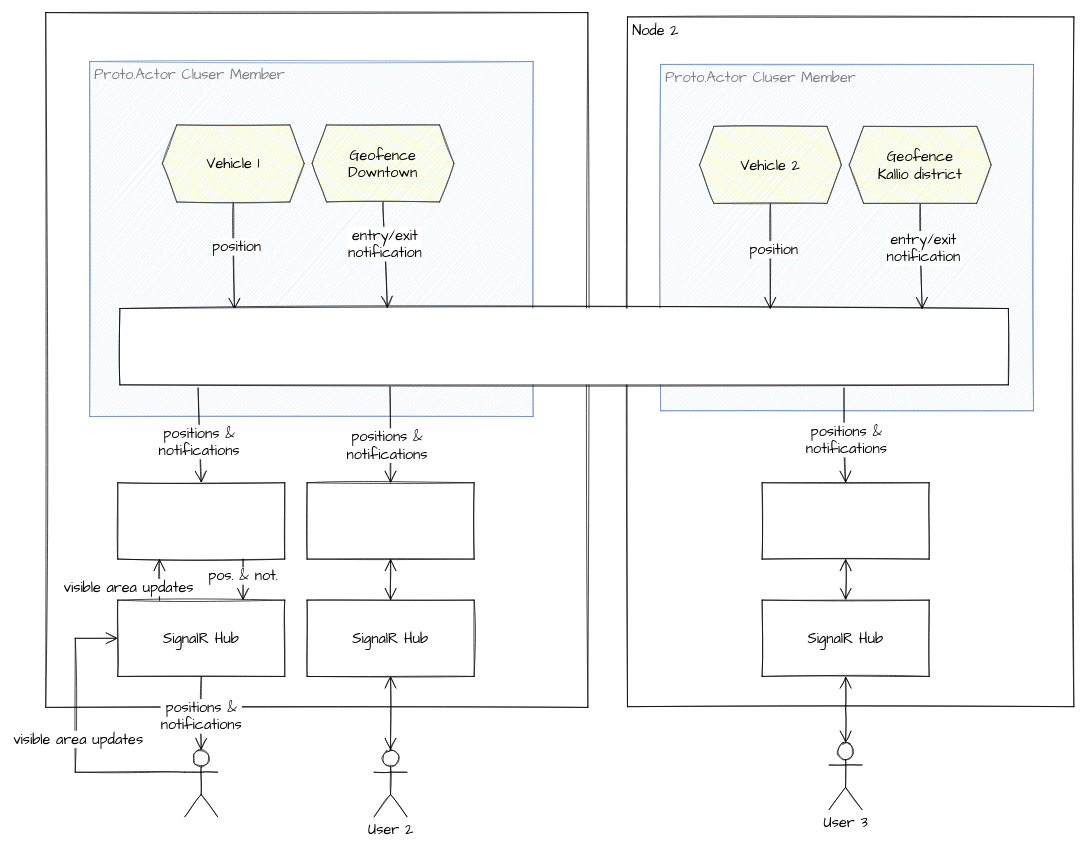
The diagram is 1086 pixels wide and 852 high, and some of its shapes have lost their labels. The box of each missing label's shape, as (x1, y1, x2, y2) in pixels:
Node 1: (45, 12, 588, 707)
Proto.Actor's EventStream: (119, 308, 1008, 385)
User 1: (184, 749, 218, 817)
Viewport 1: (117, 482, 285, 559)
Viewport 2: (306, 482, 474, 559)
Viewport 3: (761, 482, 929, 559)
